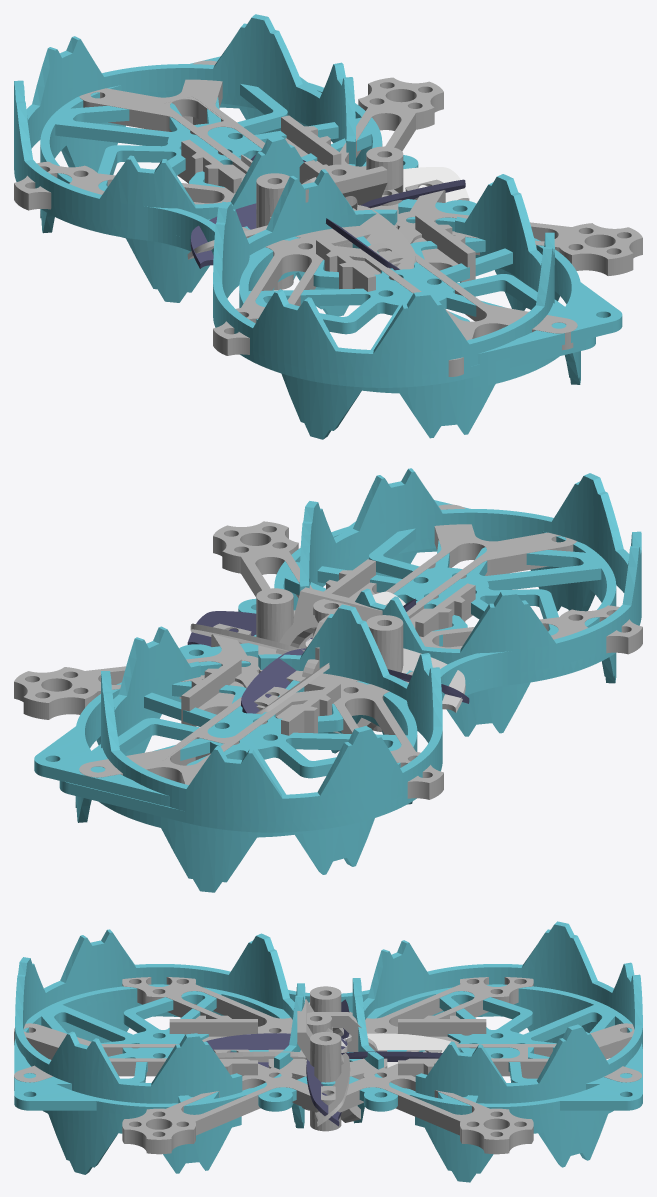
The model's file is bateleur.v0.2.11.squashed.glb.
The picture shows the model from 3 angles, top to bottom: view 1: azimuth 30°, elevation 25°; view 2: azimuth 150°, elevation 25°; view 3: azimuth 270°, elevation 25°; orthographic projection. The views are drawn at different scales.
Parts seen in each view (by area): view 1: PropguardsBottom, PropguardsTop, Coretop, Batteryplate, Antennamount, PropellerCCW, PropellerCW, Corebottom, CameraBracket; view 2: PropguardsBottom, PropguardsTop, Coretop, Batteryplate, Antennamount, Corebottom, PropellerCW, PropellerCCW, CameraBracket; view 3: PropguardsBottom, PropguardsTop, Coretop, Batteryplate, Antennamount, Corebottom, PropellerCW, PropellerCCW, CameraBracket.
Boxes of the visible parts, <box> form: PropguardsBottom: <box>14,14,595,387</box>; PropguardsTop: <box>40,56,622,439</box>; Coretop: <box>14,60,642,376</box>; Batteryplate: <box>181,115,475,291</box>; Antennamount: <box>256,146,403,290</box>; PropellerCCW: <box>187,154,469,269</box>; PropellerCW: <box>190,151,465,270</box>; Corebottom: <box>80,94,486,321</box>; CameraBracket: <box>299,160,357,209</box>; PropguardsBottom: <box>59,468,641,832</box>; PropguardsTop: <box>34,500,616,892</box>; Coretop: <box>14,504,642,799</box>; Batteryplate: <box>181,559,475,735</box>; Antennamount: <box>256,587,403,733</box>; Corebottom: <box>81,509,572,783</box>; PropellerCW: <box>187,598,469,713</box>; PropellerCCW: <box>190,591,465,714</box>; CameraBracket: <box>302,599,350,677</box>; PropguardsBottom: <box>15,921,642,1104</box>; PropguardsTop: <box>14,984,642,1182</box>; Coretop: <box>14,977,641,1154</box>; Batteryplate: <box>169,1015,486,1111</box>; Antennamount: <box>297,986,360,1131</box>; Corebottom: <box>25,1027,641,1112</box>; PropellerCW: <box>206,999,442,1126</box>; PropellerCCW: <box>215,1002,450,1126</box>; CameraBracket: <box>300,1012,377,1110</box>.
Size of the model in its own units: 78 by 28.08 by 119.
